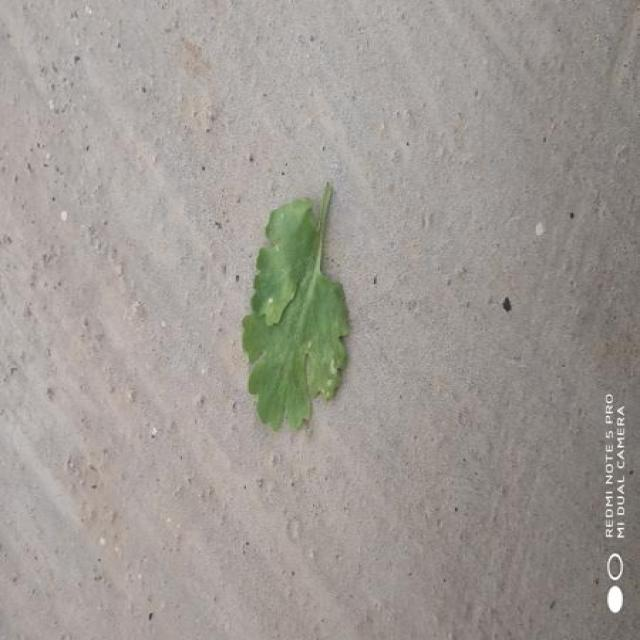coriender: (242, 185, 348, 429)
